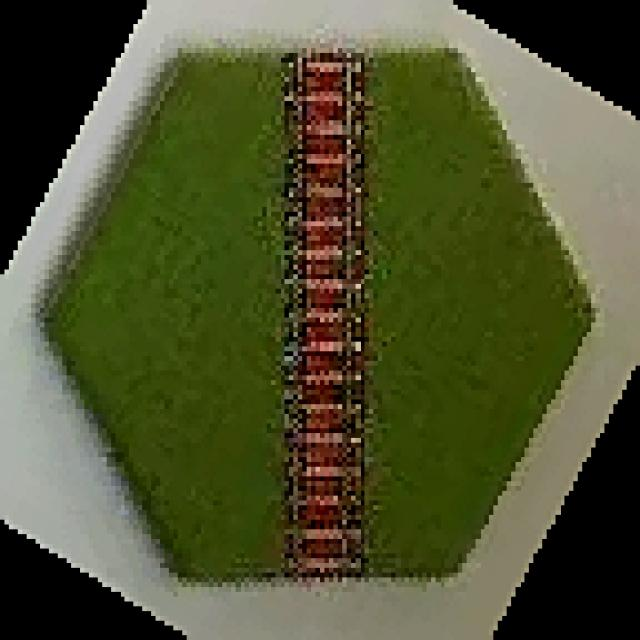3_1: (49, 48, 595, 578)
